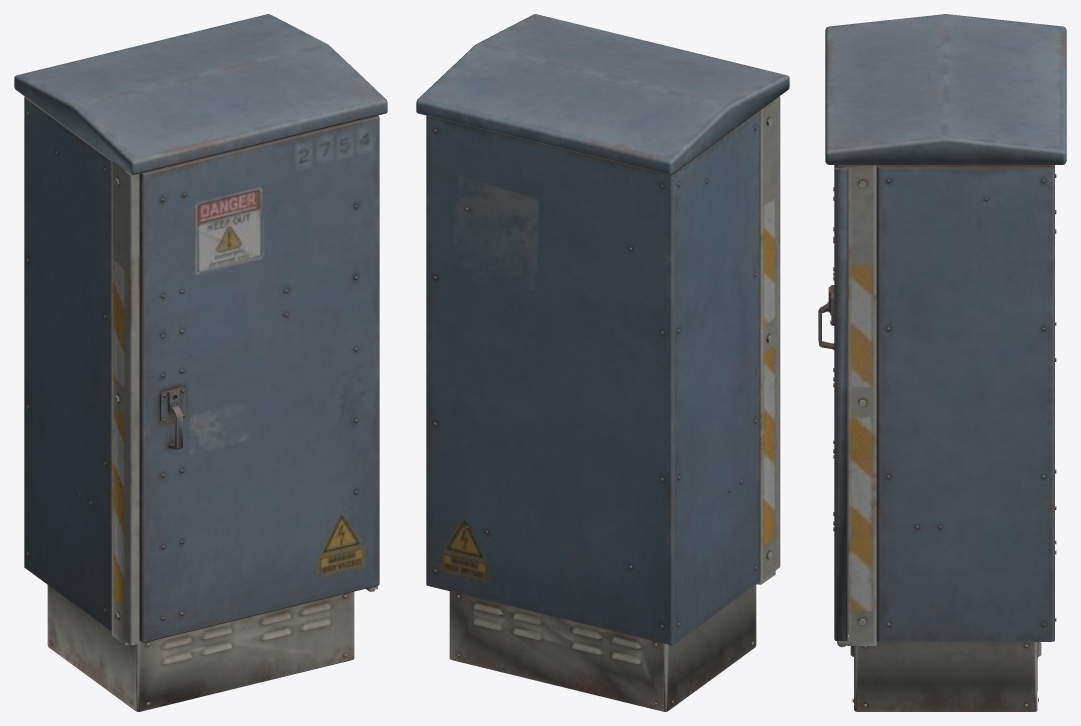
Rendered from utility_box_01.glb.
3 views of the same model, side by side, from view 1: azimuth 30°, elevation 25°; view 2: azimuth 150°, elevation 25°; view 3: azimuth 270°, elevation 25° (orthographic).
Visible parts, largest first — view 1: utility_box_01_box; view 2: utility_box_01_box; view 3: utility_box_01_box.
Boxes of the visible parts, <box> form: utility_box_01_box: <box>14,14,387,711</box>; utility_box_01_box: <box>416,14,789,711</box>; utility_box_01_box: <box>818,14,1066,711</box>.
Size of the model in its own units: 0.52 by 1.12 by 0.432.
1 material, 1 textured.
